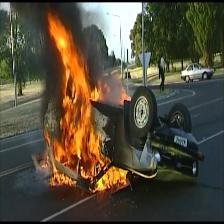fire: (42, 14, 127, 191), (120, 82, 132, 106)
